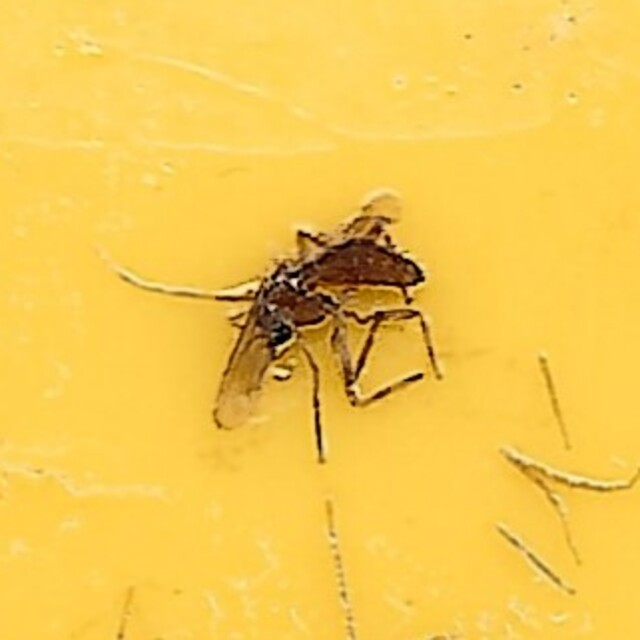Nematocera: (199, 195, 441, 445)
